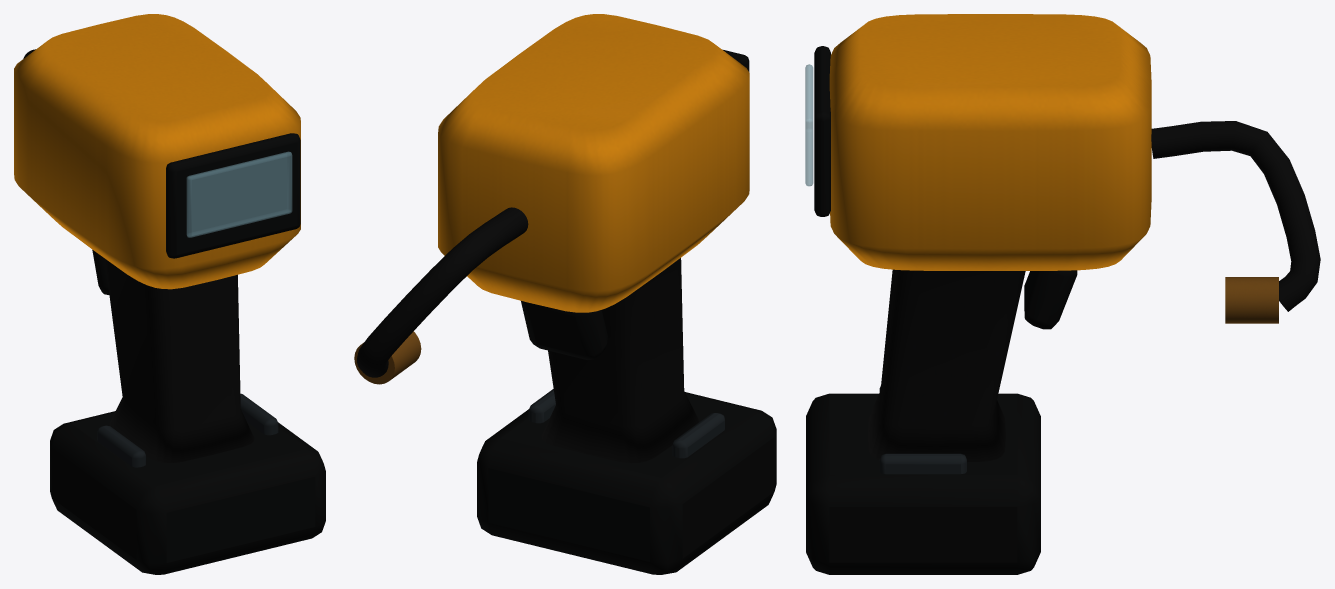
Rendered from ElectricInflator.gltf.
3 renders of one model, left to right at view 1: azimuth 30°, elevation 25°; view 2: azimuth 150°, elevation 25°; view 3: azimuth 270°, elevation 25°, orthographic. The views are drawn at different scales.
Parts seen in each view (by area): view 1: ElectricInflator__Body, ElectricInflator__Glass_Display; view 2: ElectricInflator__Body; view 3: ElectricInflator__Body, ElectricInflator__Glass_Display.
Boxes of the visible parts, left/top/right/bottom form: ElectricInflator__Body: left=14, top=14, right=325, bottom=574; ElectricInflator__Glass_Display: left=186, top=151, right=292, bottom=237; ElectricInflator__Body: left=354, top=14, right=776, bottom=574; ElectricInflator__Body: left=806, top=14, right=1320, bottom=574; ElectricInflator__Glass_Display: left=805, top=64, right=813, bottom=186.
Size of the model in its own units: 0.1008 by 0.224 by 0.2168.
2 materials, 1 textured.
